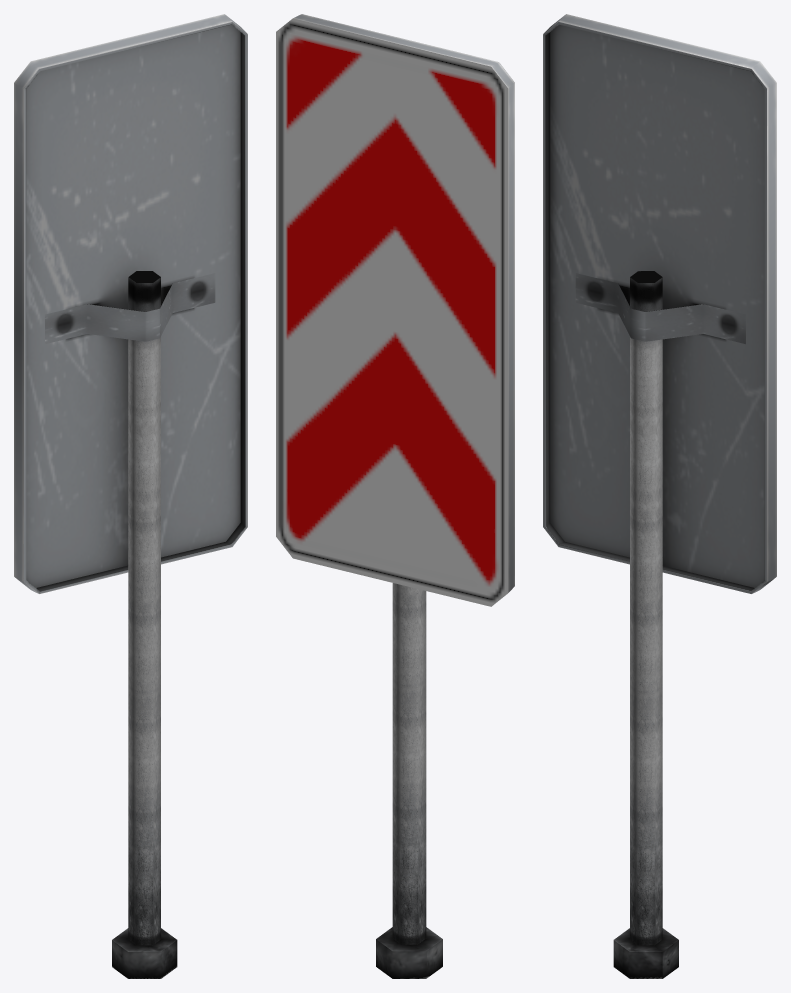
Rendered from TRF0310015.FBX.
3 renders of one model, left to right at view 1: azimuth 30°, elevation 25°; view 2: azimuth 150°, elevation 25°; view 3: azimuth 330°, elevation 25°, orthographic. The views are drawn at different scales.
Parts seen in each view (by area): view 1: smTRF0310015; view 2: smTRF0310015; view 3: smTRF0310015.
Part boxes in pixels (x1,y1,x2,y2): smTRF0310015: [14, 14, 247, 978]; smTRF0310015: [276, 14, 514, 978]; smTRF0310015: [543, 14, 776, 978].
Size of the model in its own units: 39.5 by 152 by 10.04.
1 material, 1 textured.
